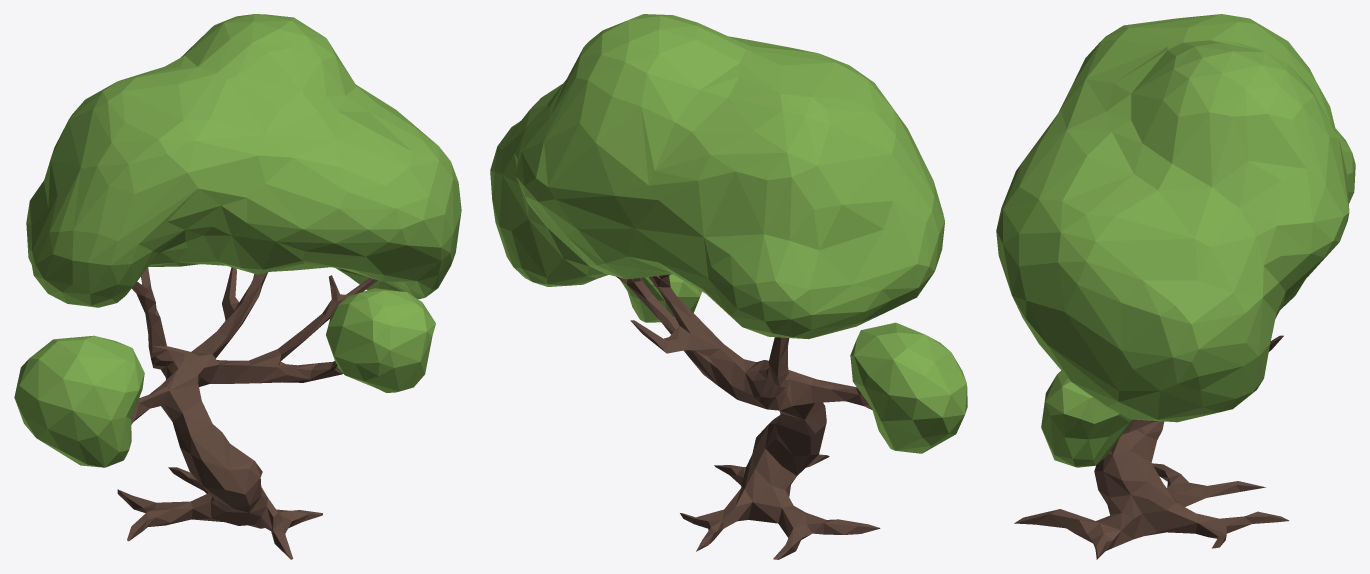
The picture shows the model from 3 angles, left to right: view 1: azimuth 30°, elevation 25°; view 2: azimuth 150°, elevation 25°; view 3: azimuth 270°, elevation 25°; orthographic projection. The views are drawn at different scales.
Parts seen in each view (by area): view 1: Tree5_2; view 2: Tree5_2; view 3: Tree5_2.
Boxes of the visible parts, box(x1,y1,x2,y2) form: Tree5_2: box(14, 14, 461, 559); Tree5_2: box(490, 14, 967, 559); Tree5_2: box(996, 14, 1355, 559).
Size of the model in its own units: 618 by 632 by 401.
